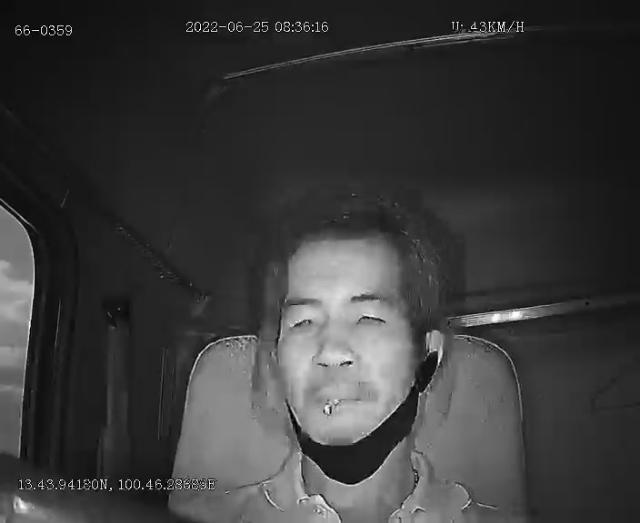SafeDriving: (348, 298, 396, 332), (282, 303, 324, 336)
Smoking: (324, 398, 338, 416)
